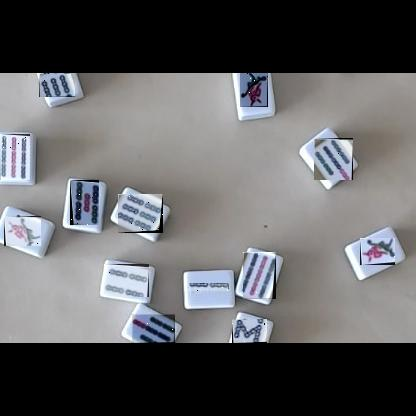1s: (4, 216, 41, 246), (240, 73, 268, 107), (360, 238, 395, 265)
2s: (189, 284, 229, 294)
4s: (104, 264, 149, 297)
5s: (70, 180, 99, 225)
6s: (118, 194, 163, 233), (39, 73, 75, 97)
7s: (314, 138, 353, 180), (132, 314, 175, 343)
8s: (232, 319, 267, 343)
9s: (243, 252, 276, 299), (0, 134, 30, 180)
